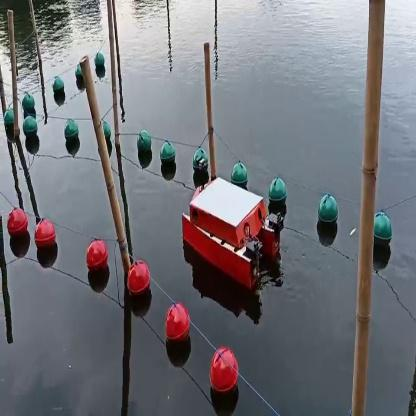green_buoy: (318, 189, 338, 234), (267, 176, 286, 208), (374, 214, 390, 249), (192, 145, 207, 172), (231, 158, 246, 184), (22, 92, 36, 112), (162, 145, 174, 168), (24, 117, 37, 138), (67, 120, 78, 143), (52, 76, 64, 96), (6, 114, 16, 137), (142, 135, 152, 157), (95, 50, 105, 70), (74, 70, 84, 88), (105, 122, 110, 140)
red_buoy: (214, 345, 238, 397), (168, 302, 190, 347), (124, 261, 150, 297), (32, 220, 58, 254), (8, 204, 28, 242), (88, 239, 106, 275)
